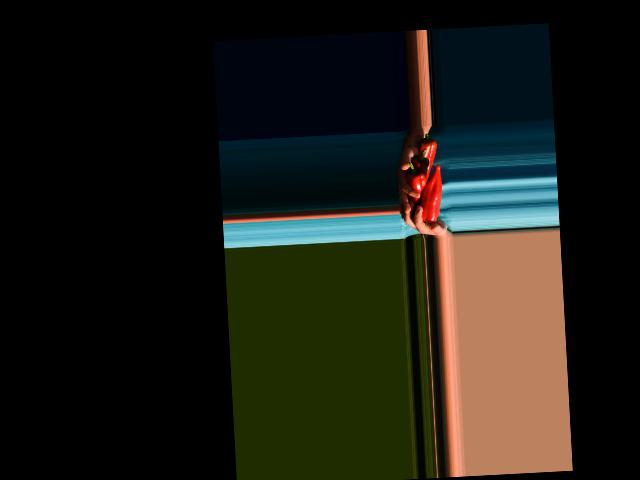bell_pepper: (416, 132, 438, 171)
